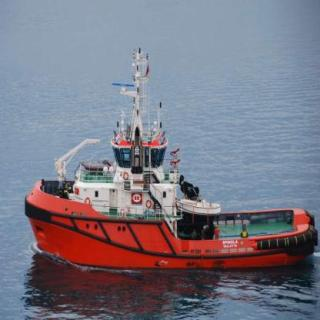Tug Boat: (27, 38, 316, 271)
